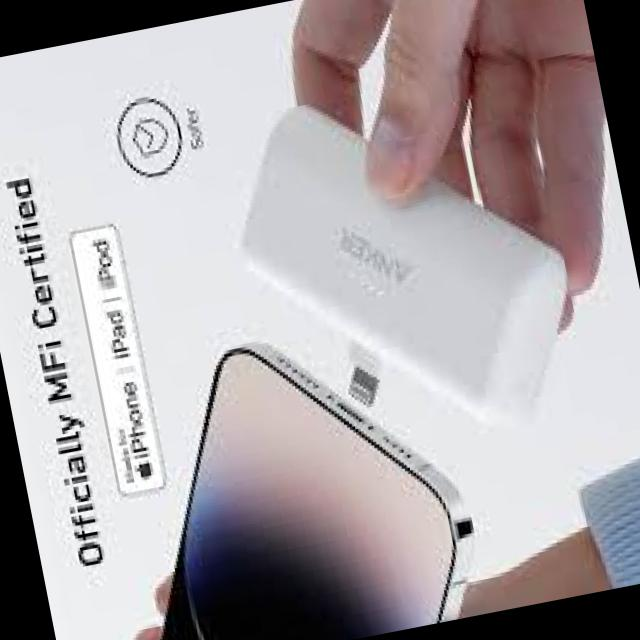portable-charger: (198, 44, 603, 475)
